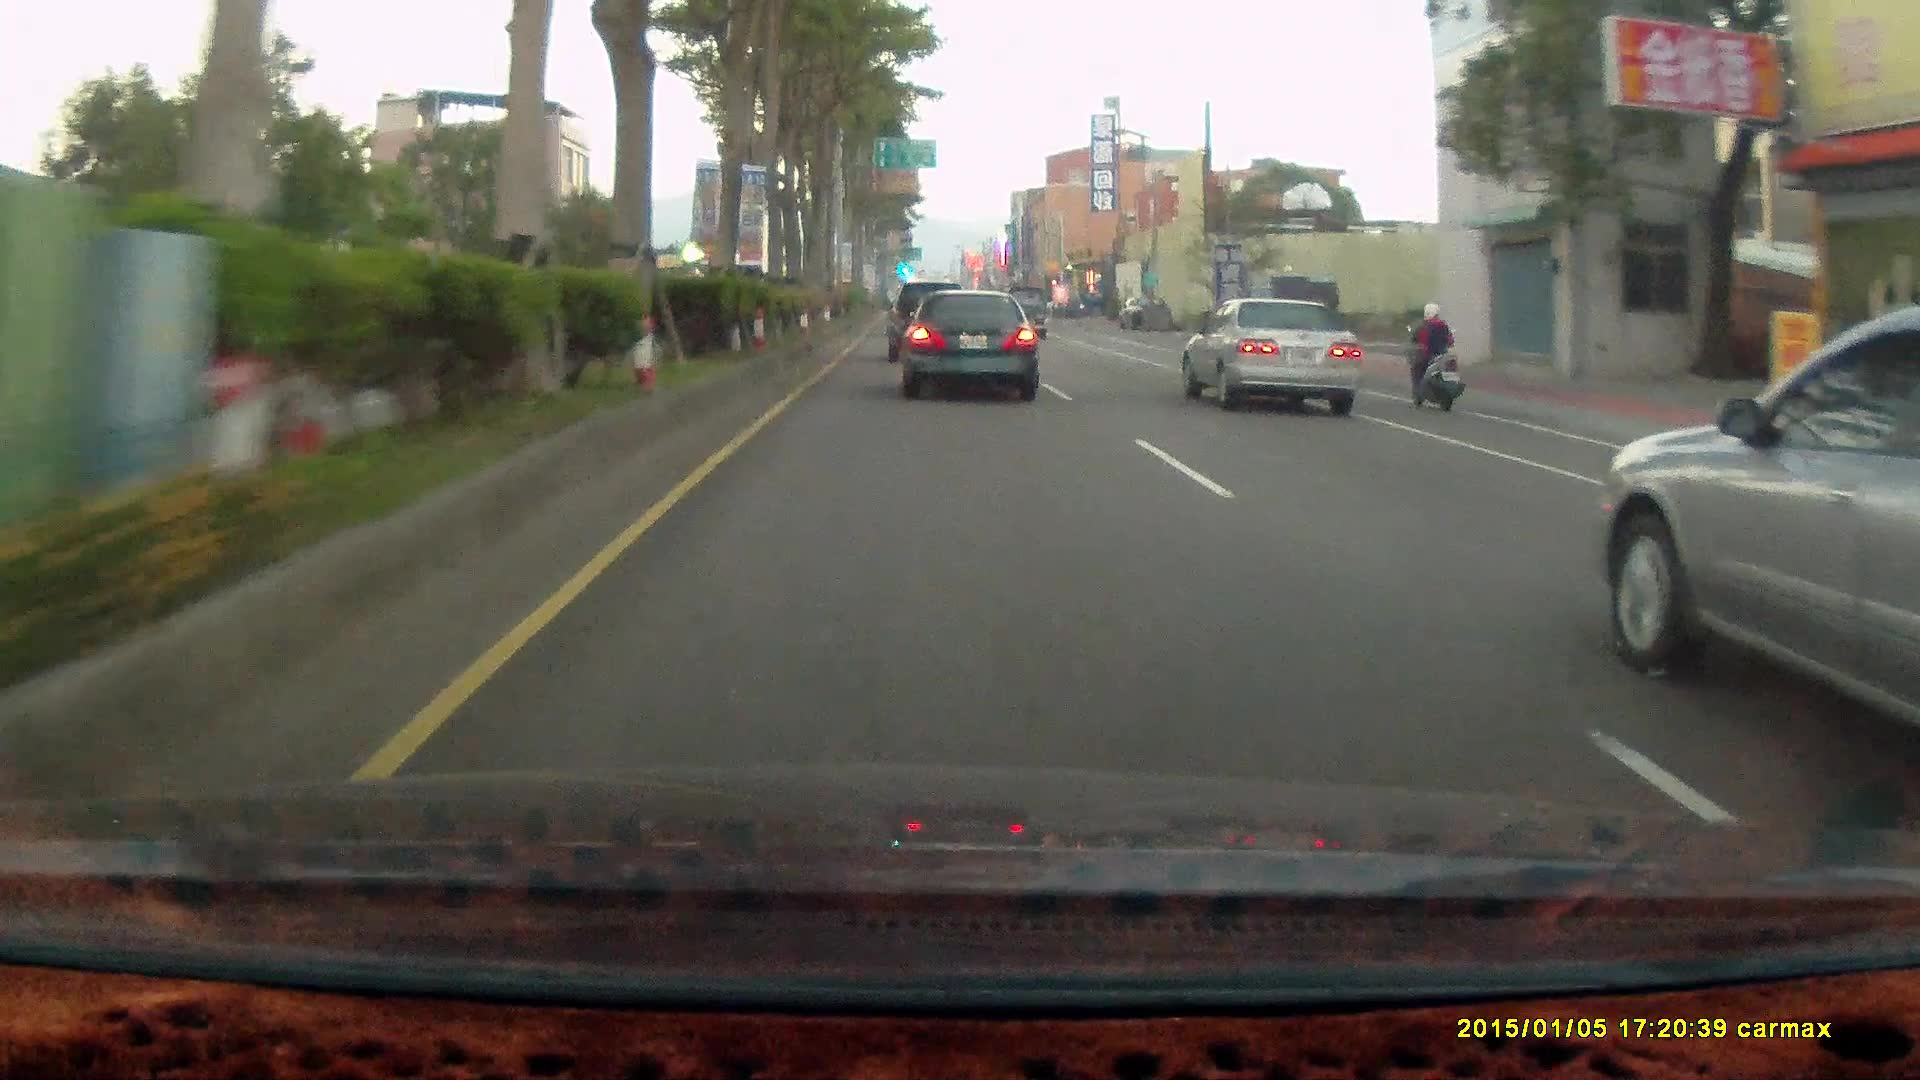rider: (1393, 293, 1475, 421), (1401, 298, 1466, 413)
vehicle: (1597, 326, 1920, 787), (1181, 298, 1361, 417), (1189, 302, 1366, 418), (900, 292, 1040, 404), (899, 290, 1038, 400), (1243, 280, 1339, 364), (889, 279, 973, 362), (887, 279, 968, 362), (1002, 283, 1049, 337)
